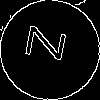Z: (25, 25, 76, 64)
